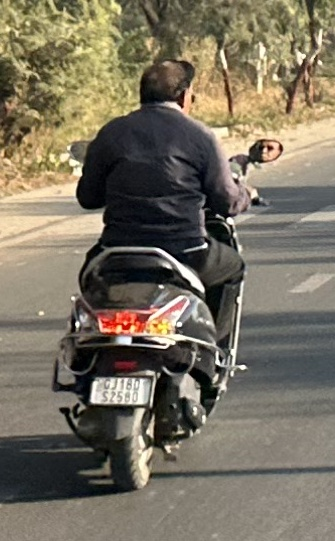BikeWithRider: (41, 50, 290, 496)
NoHelmet: (126, 52, 205, 121)
